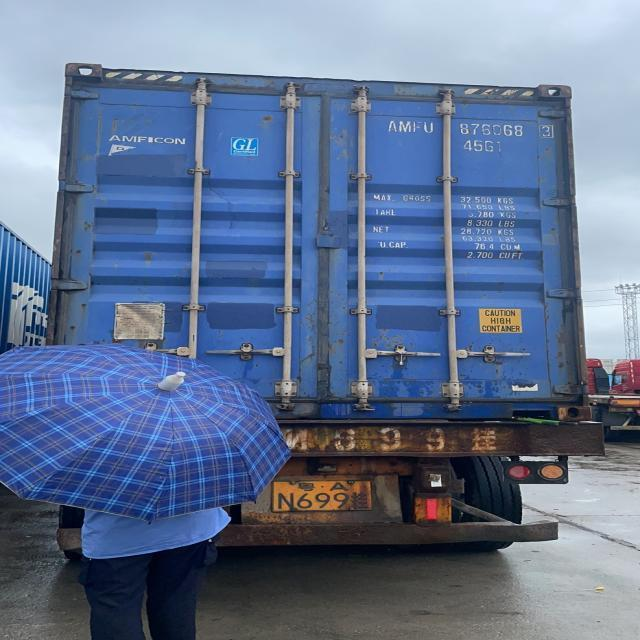ISO: (464, 138, 506, 154)
container_number: (386, 122, 548, 140)
